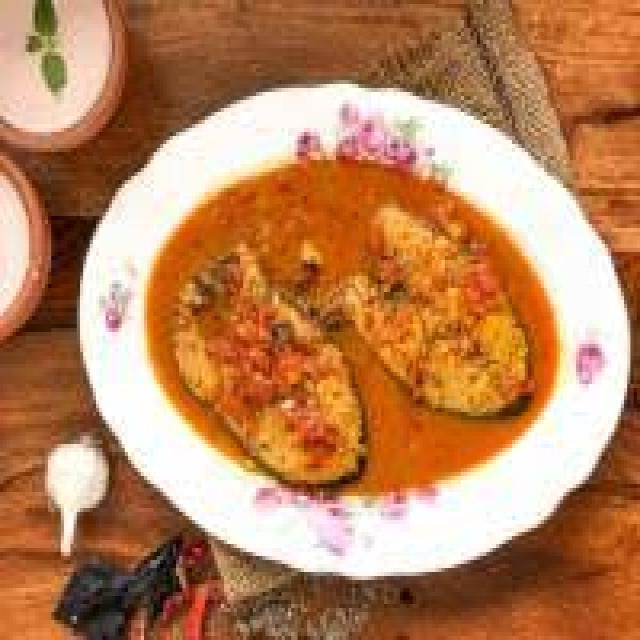DOSA: (141, 148, 525, 460)
